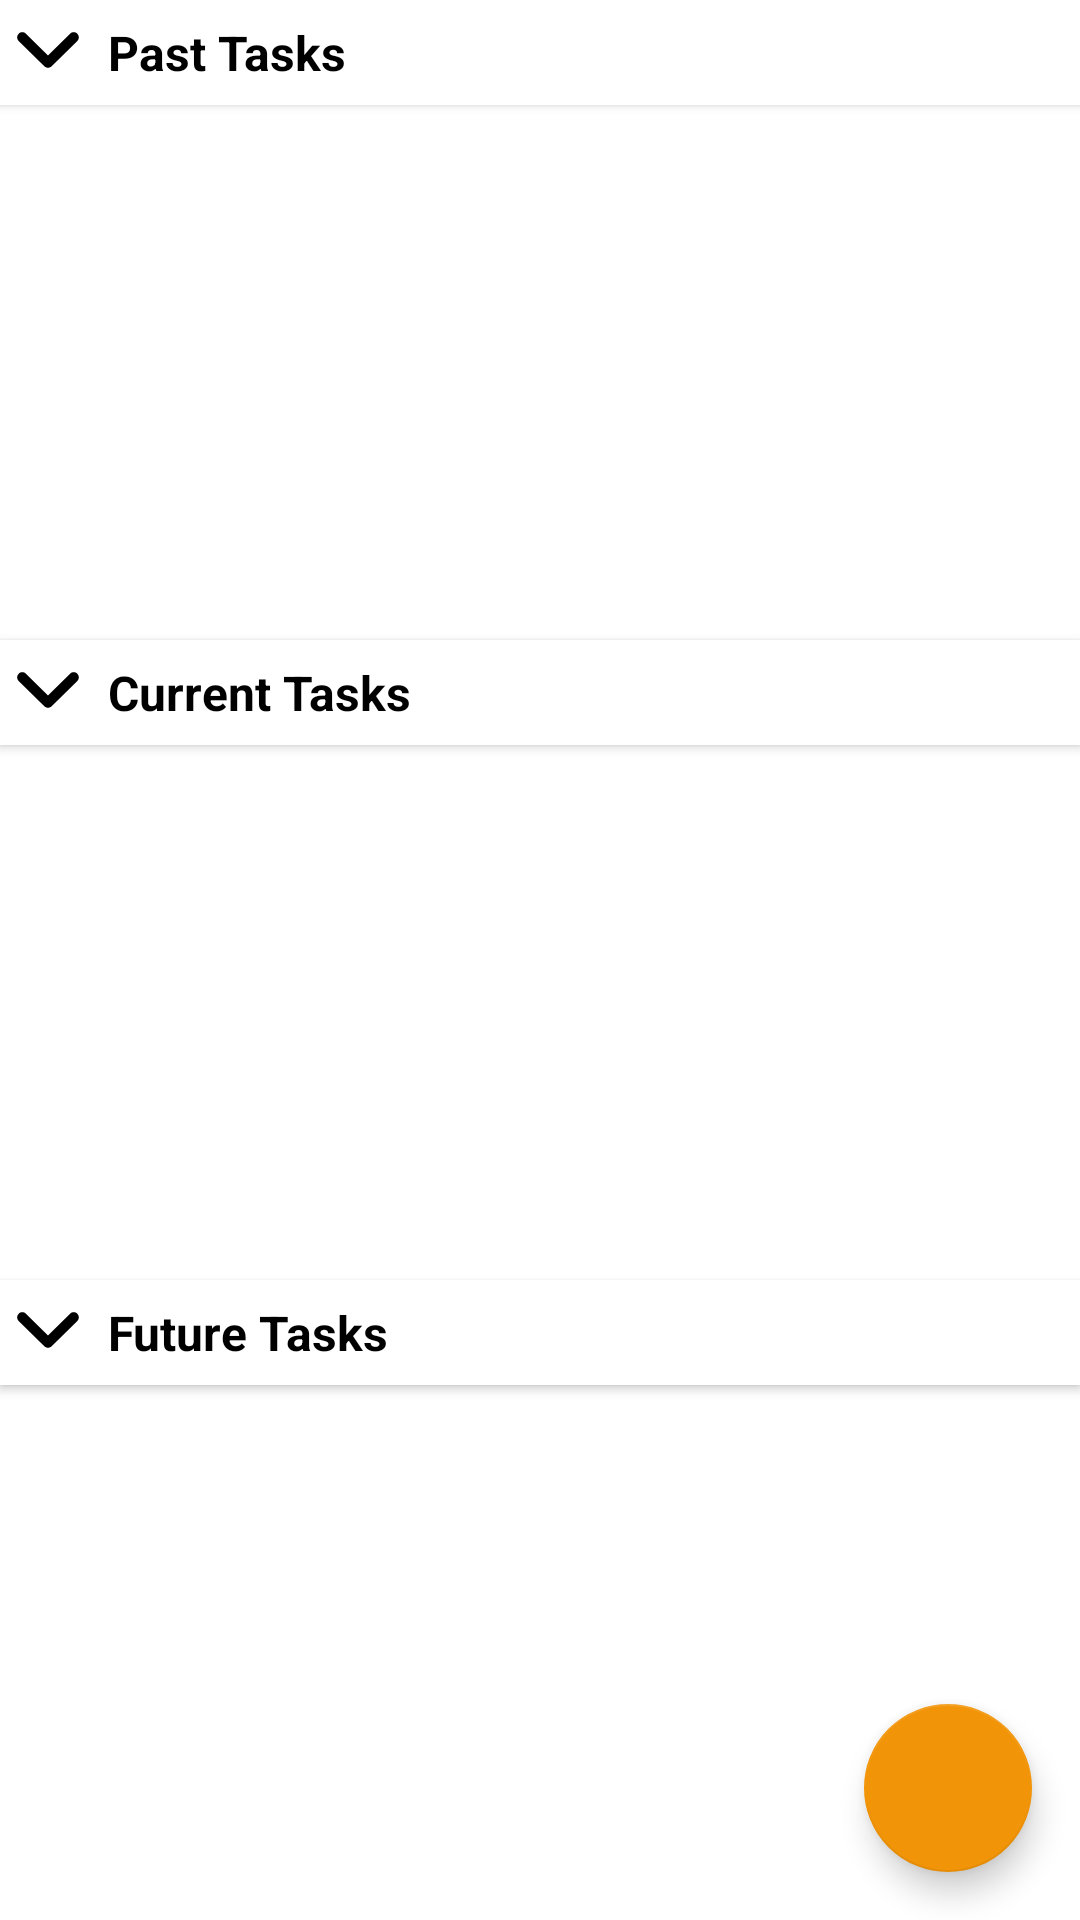

Icon click points for this 1080px×1920px phone screenshot, format (x,y):
angle down: (48,50), (48,690), (48,1330)
